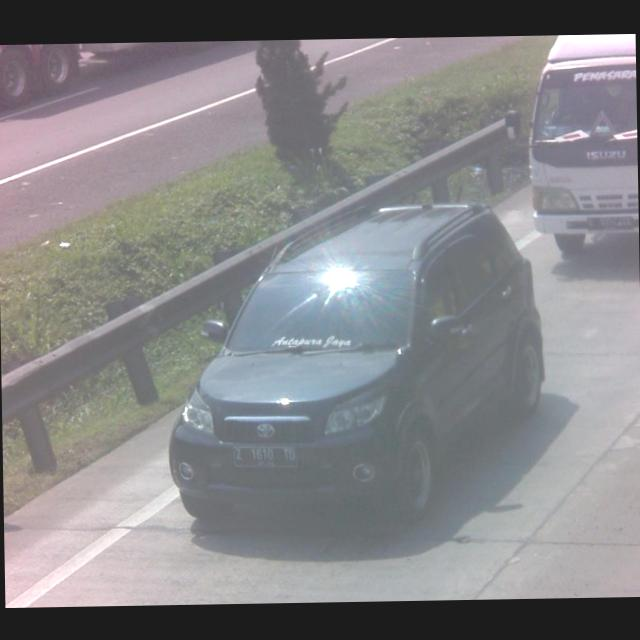plate: (231, 445, 298, 469)
